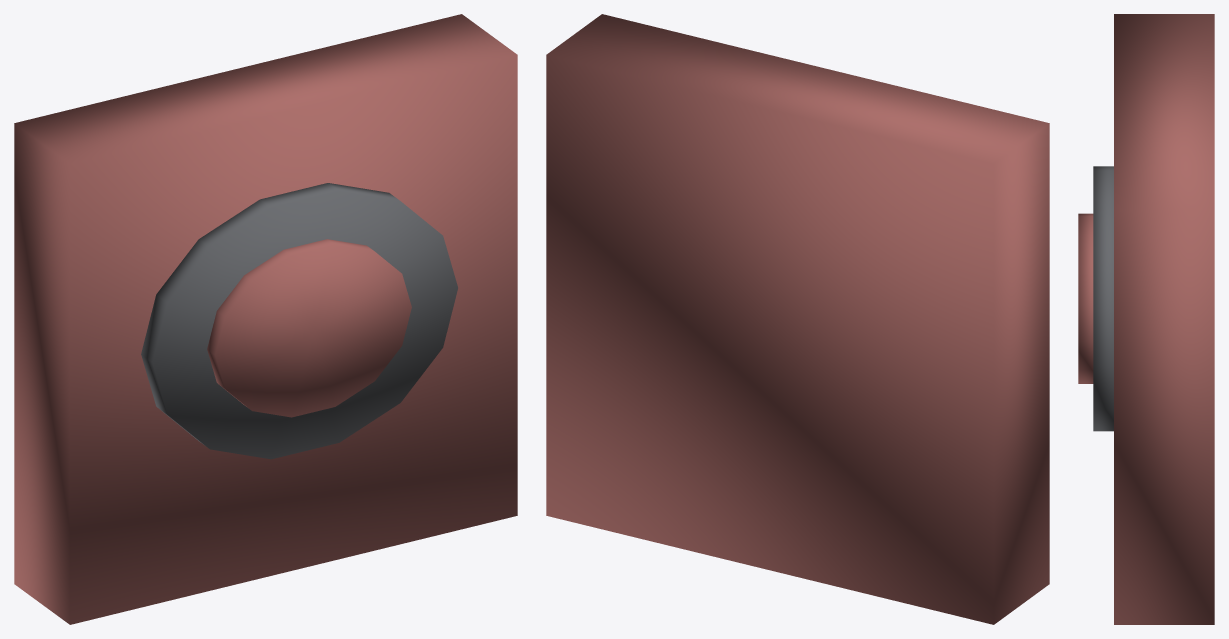
File: fire_hose_rack__wide.glb
The picture shows the model from 3 angles, left to right: view 1: azimuth 30°, elevation 25°; view 2: azimuth 150°, elevation 25°; view 3: azimuth 270°, elevation 25°; orthographic projection. The views are drawn at different scales.
Parts seen in each view (by area): view 1: world; view 2: world; view 3: world.
Part boxes in pixels (<box>): world: <box>14,14,517,624</box>; world: <box>546,14,1049,624</box>; world: <box>1078,14,1214,624</box>.
Size of the model in its own units: 1.02 by 1 by 0.2975.
